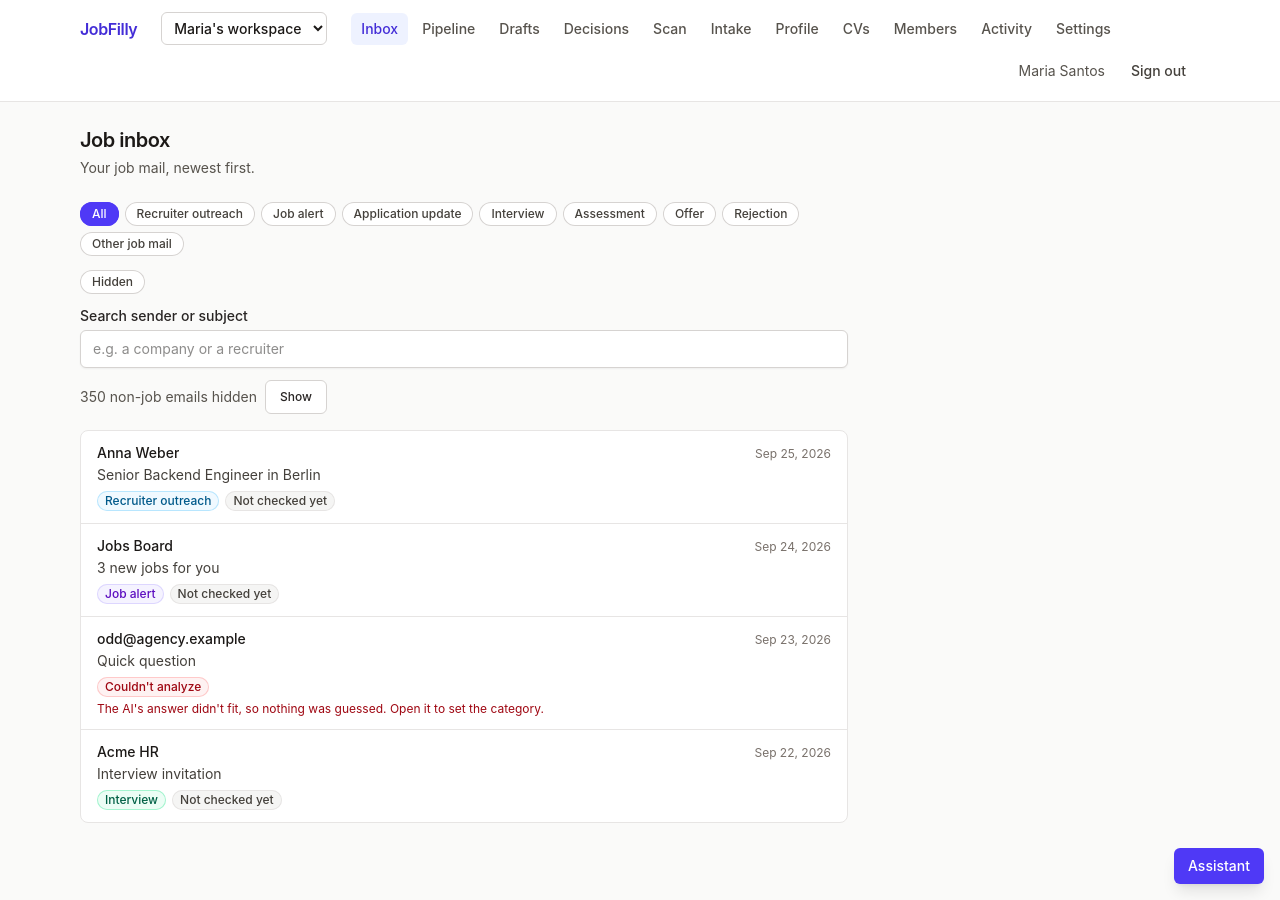
Scenario: the list (F5.1) › hides non-job mail behind a count and a Show toggle
Expected: the text "350 non-job emails hidden" is shown, [80,387,257,407]
Expected: the text "Weekly deals" is not shown
Click the button "Show" at (296, 397), box [265,380,327,414]
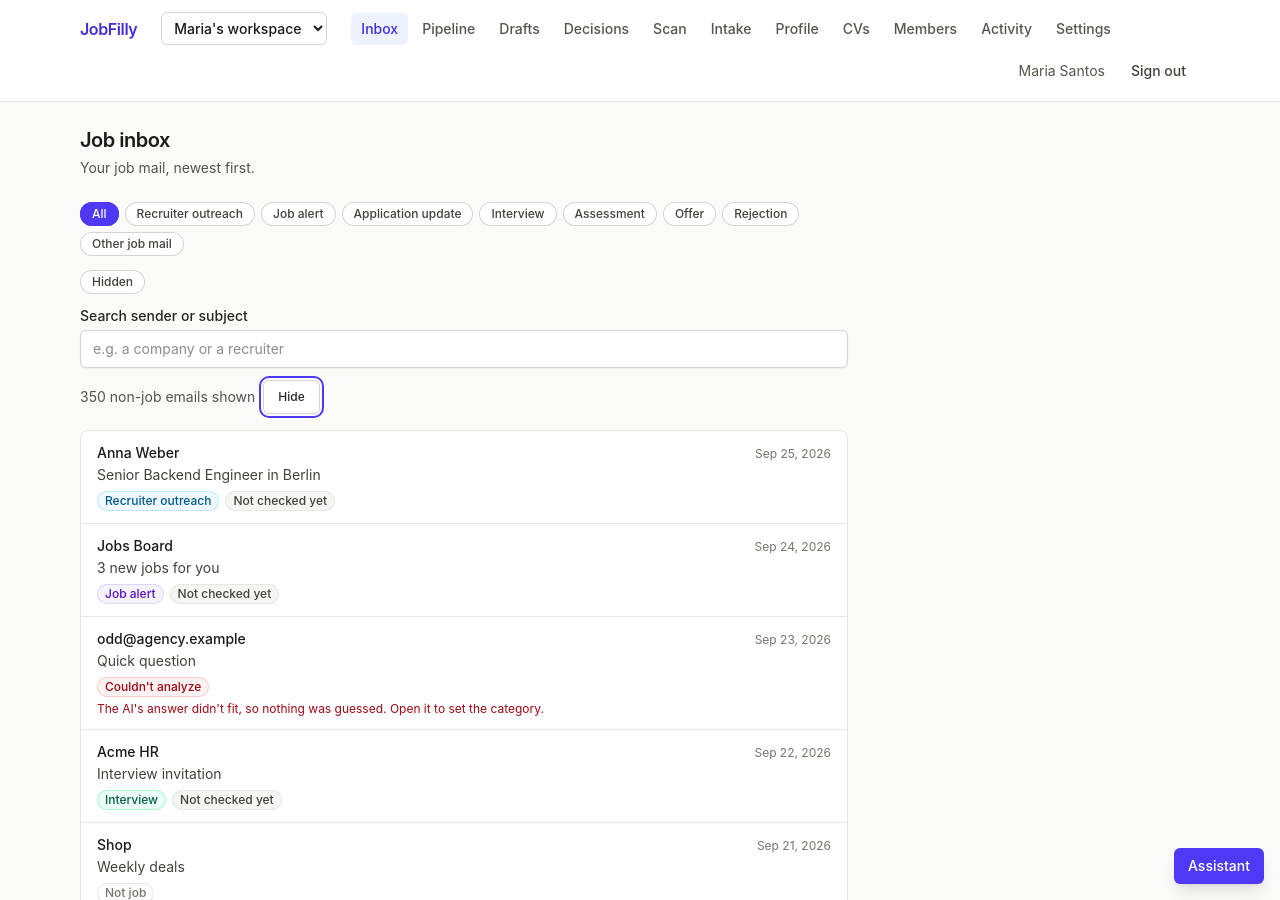
Result: the text "Weekly deals" is shown at [97,858,185,875]
Result: the text "350 non-job emails shown" is shown at [80,387,255,407]
Click the button "Hide" at (292, 397), box [263,380,320,414]
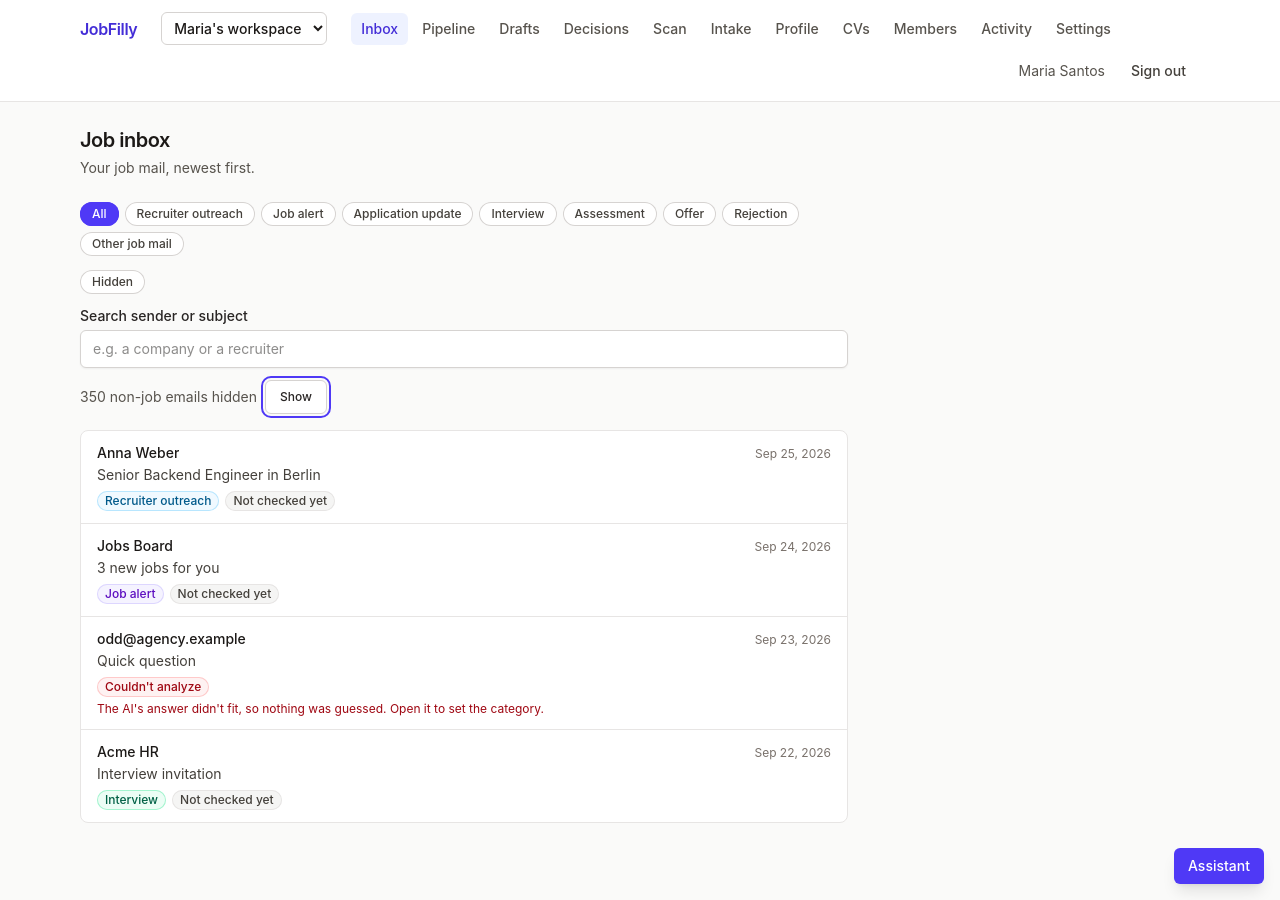
Result: the link "Weekly deals" is gone
